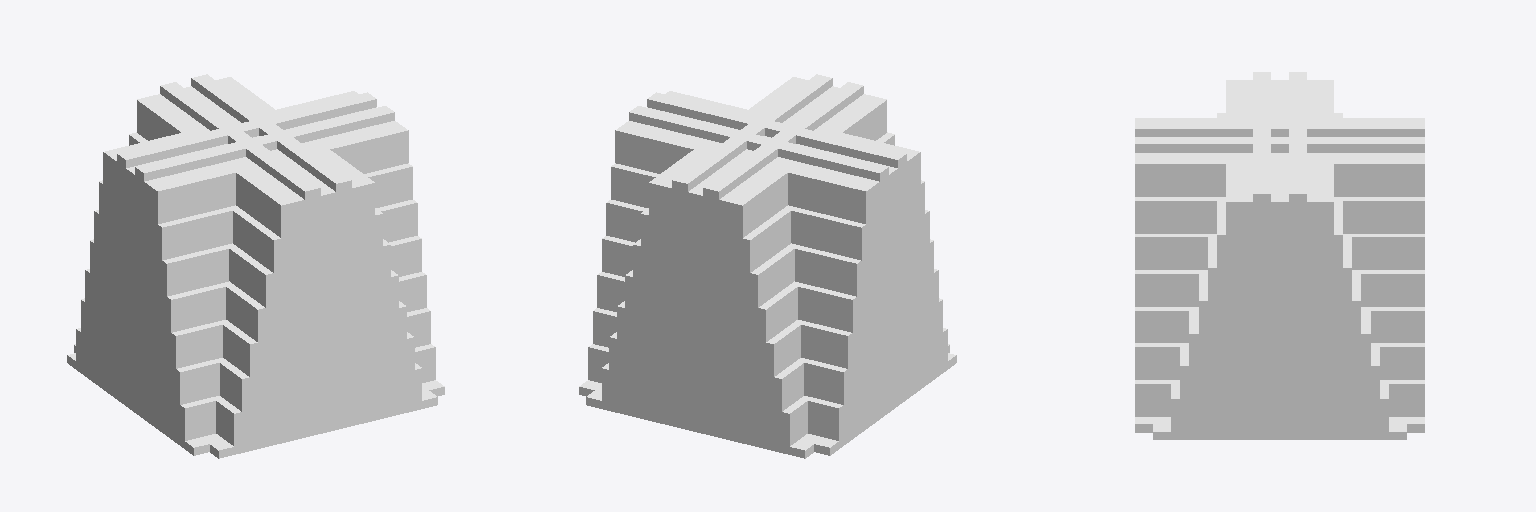
The model's file is wallCrossroad.obj.
3 renders of one model, left to right at view 1: azimuth 30°, elevation 25°; view 2: azimuth 150°, elevation 25°; view 3: azimuth 270°, elevation 25°, orthographic.
Visible parts, largest first — view 1: object 1; view 2: object 1; view 3: object 1.
Part boxes in pixels (x1,y1,x2,y2): object 1: (67,74,444,458); object 1: (579,74,956,458); object 1: (1135,72,1424,439).
Bounding box in the file's own units: 3.2 × 3 × 3.2.